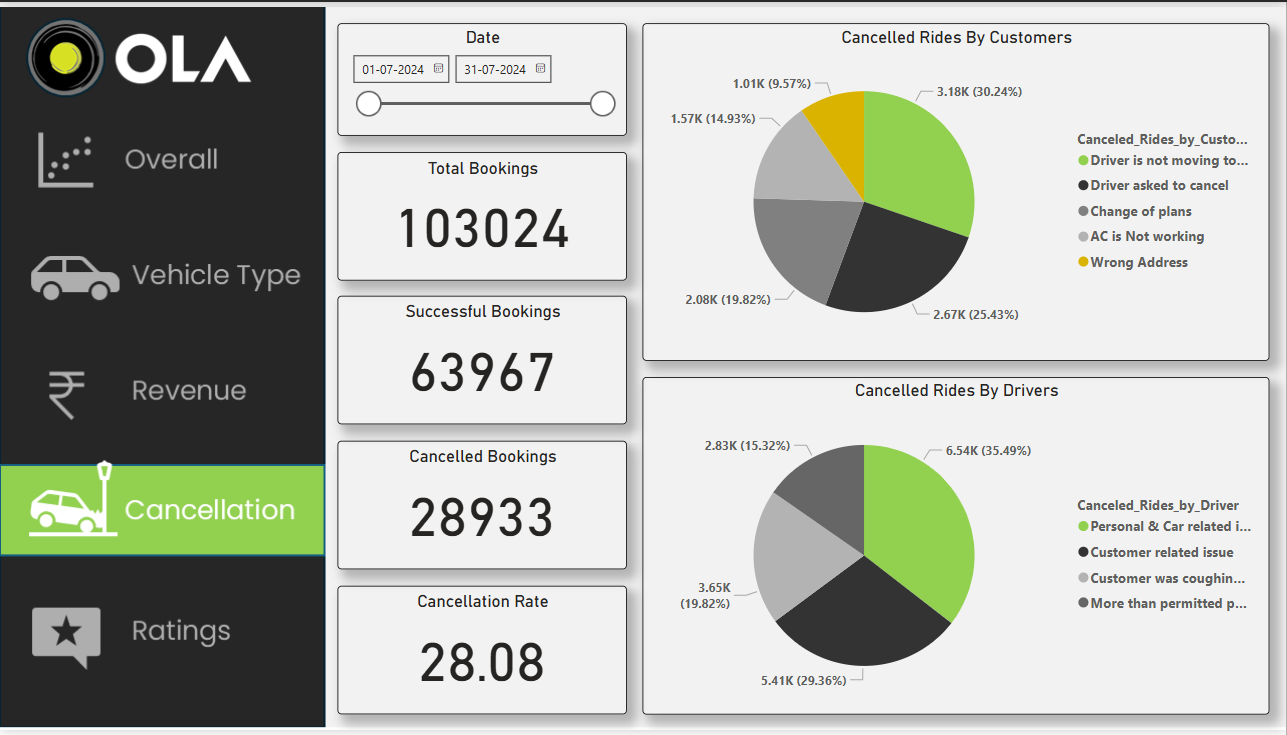

Layout of this report page (visuals, bound fields, positions):
{"tool":"powerbi","page":{"name":"Cancellation","canvas":[1280,720],"ordinal":3},"visuals":[{"type":"actionButton","box":[0,224,320,96],"z":0},{"type":"actionButton","box":[0,336,320,96],"z":1000},{"type":"actionButton","box":[0,448,320,96],"z":2000},{"type":"actionButton","box":[0,576,320,96],"z":3000},{"type":"actionButton","box":[0,112,320,96],"z":4000},{"type":"pieChart","title":"Cancelled Rides By Customers","fields":{"Category":["Bookings.Canceled_Rides_by_Customer"],"Y":["CountNonNull(Bookings.Canceled_Rides_by_Customer)"]},"box":[640,16,624,336],"z":5000},{"type":"pieChart","title":"Cancelled Rides By Drivers","fields":{"Category":["Bookings.Canceled_Rides_by_Driver"],"Y":["CountNonNull(Bookings.Canceled_Rides_by_Driver)"]},"box":[640,368,624,336],"z":6000},{"type":"card","title":"Total Bookings","fields":{"Values":["CountNonNull(Bookings.Booking_ID)"]},"box":[336,144,288,128],"z":7000},{"type":"slicer","title":"Date","fields":{"Values":["Bookings.Date"]},"box":[336,16,288,112],"z":8000},{"type":"card","title":"Successful Bookings","fields":{"Values":["CountNonNull(Bookings.Booking_ID)"]},"box":[336,288,288,128],"z":9000},{"type":"card","title":"Cancelled Bookings","fields":{"Values":["CountNonNull(Bookings.Booking_ID)"]},"box":[336,432,288,128],"z":10000},{"type":"card","title":"Cancellation Rate","fields":{"Values":["Bookings.Cancel percentage"]},"box":[336,576,288,128],"z":11000}]}

Visuals, with their boxes on the page's 1280x720 design canvas (x1, y1, x2, y2). These are canvas units, not pixel positions in the 1287x735 screenshot, which may show the page scaled, cropped or inside an application window:
actionButton: left=0, top=224, right=320, bottom=320
actionButton: left=0, top=336, right=320, bottom=432
actionButton: left=0, top=448, right=320, bottom=544
actionButton: left=0, top=576, right=320, bottom=672
actionButton: left=0, top=112, right=320, bottom=208
"Cancelled Rides By Customers" pieChart: left=640, top=16, right=1264, bottom=352
"Cancelled Rides By Drivers" pieChart: left=640, top=368, right=1264, bottom=704
"Total Bookings" card: left=336, top=144, right=624, bottom=272
"Date" slicer: left=336, top=16, right=624, bottom=128
"Successful Bookings" card: left=336, top=288, right=624, bottom=416
"Cancelled Bookings" card: left=336, top=432, right=624, bottom=560
"Cancellation Rate" card: left=336, top=576, right=624, bottom=704
